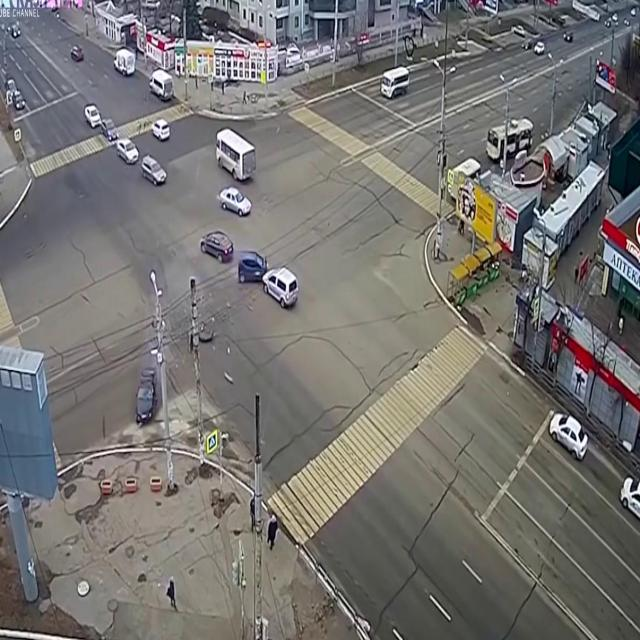accident: (132, 268, 236, 432), (232, 245, 304, 315)
non_accident: (82, 98, 174, 194), (213, 127, 261, 221)
